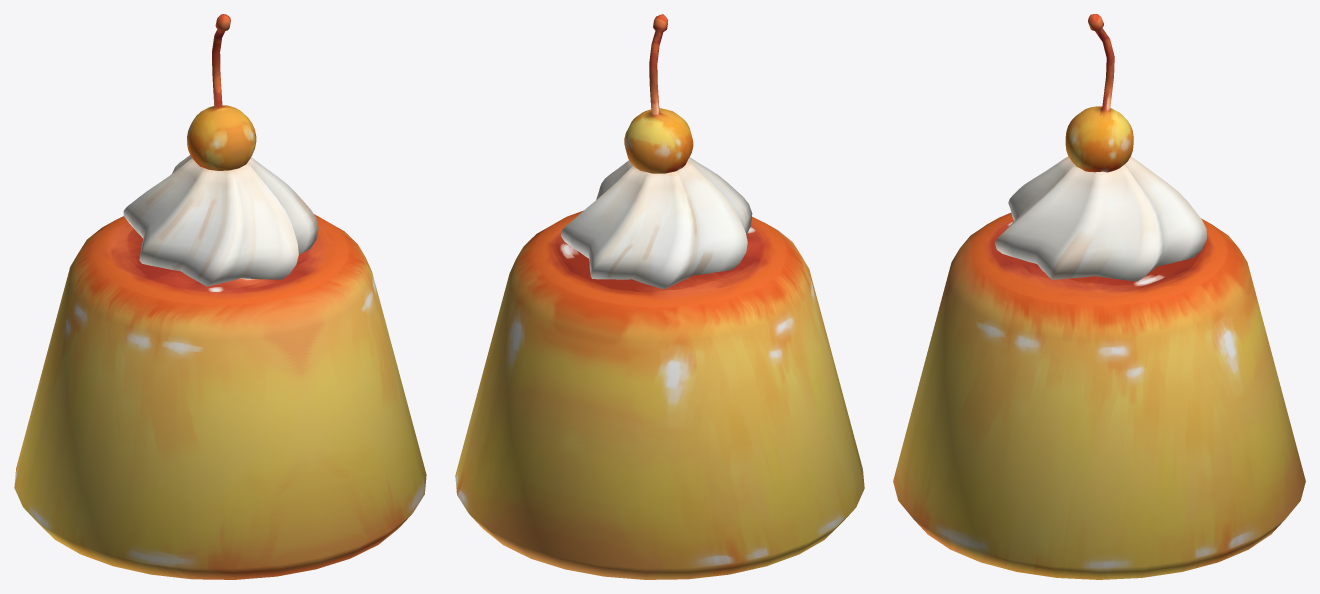
File: stylized_caramel_pudding.glb
The picture shows the model from 3 angles, left to right: view 1: azimuth 30°, elevation 25°; view 2: azimuth 150°, elevation 25°; view 3: azimuth 270°, elevation 25°; orthographic projection.
Visible parts, largest first — view 1: Object_4, Object_3, Object_2; view 2: Object_4, Object_3, Object_2; view 3: Object_4, Object_3, Object_2.
Boxes of the visible parts, x1,y1,x2,y2 form: Object_4: [14, 214, 426, 579]; Object_3: [123, 155, 318, 286]; Object_2: [187, 14, 256, 170]; Object_4: [455, 210, 864, 579]; Object_3: [561, 157, 752, 289]; Object_2: [624, 14, 693, 173]; Object_4: [893, 212, 1305, 579]; Object_3: [995, 156, 1206, 281]; Object_2: [1065, 14, 1133, 172].
Size of the model in its own units: 2.88 by 3.74 by 2.88.
Materials: 3 (3 with a texture image).
